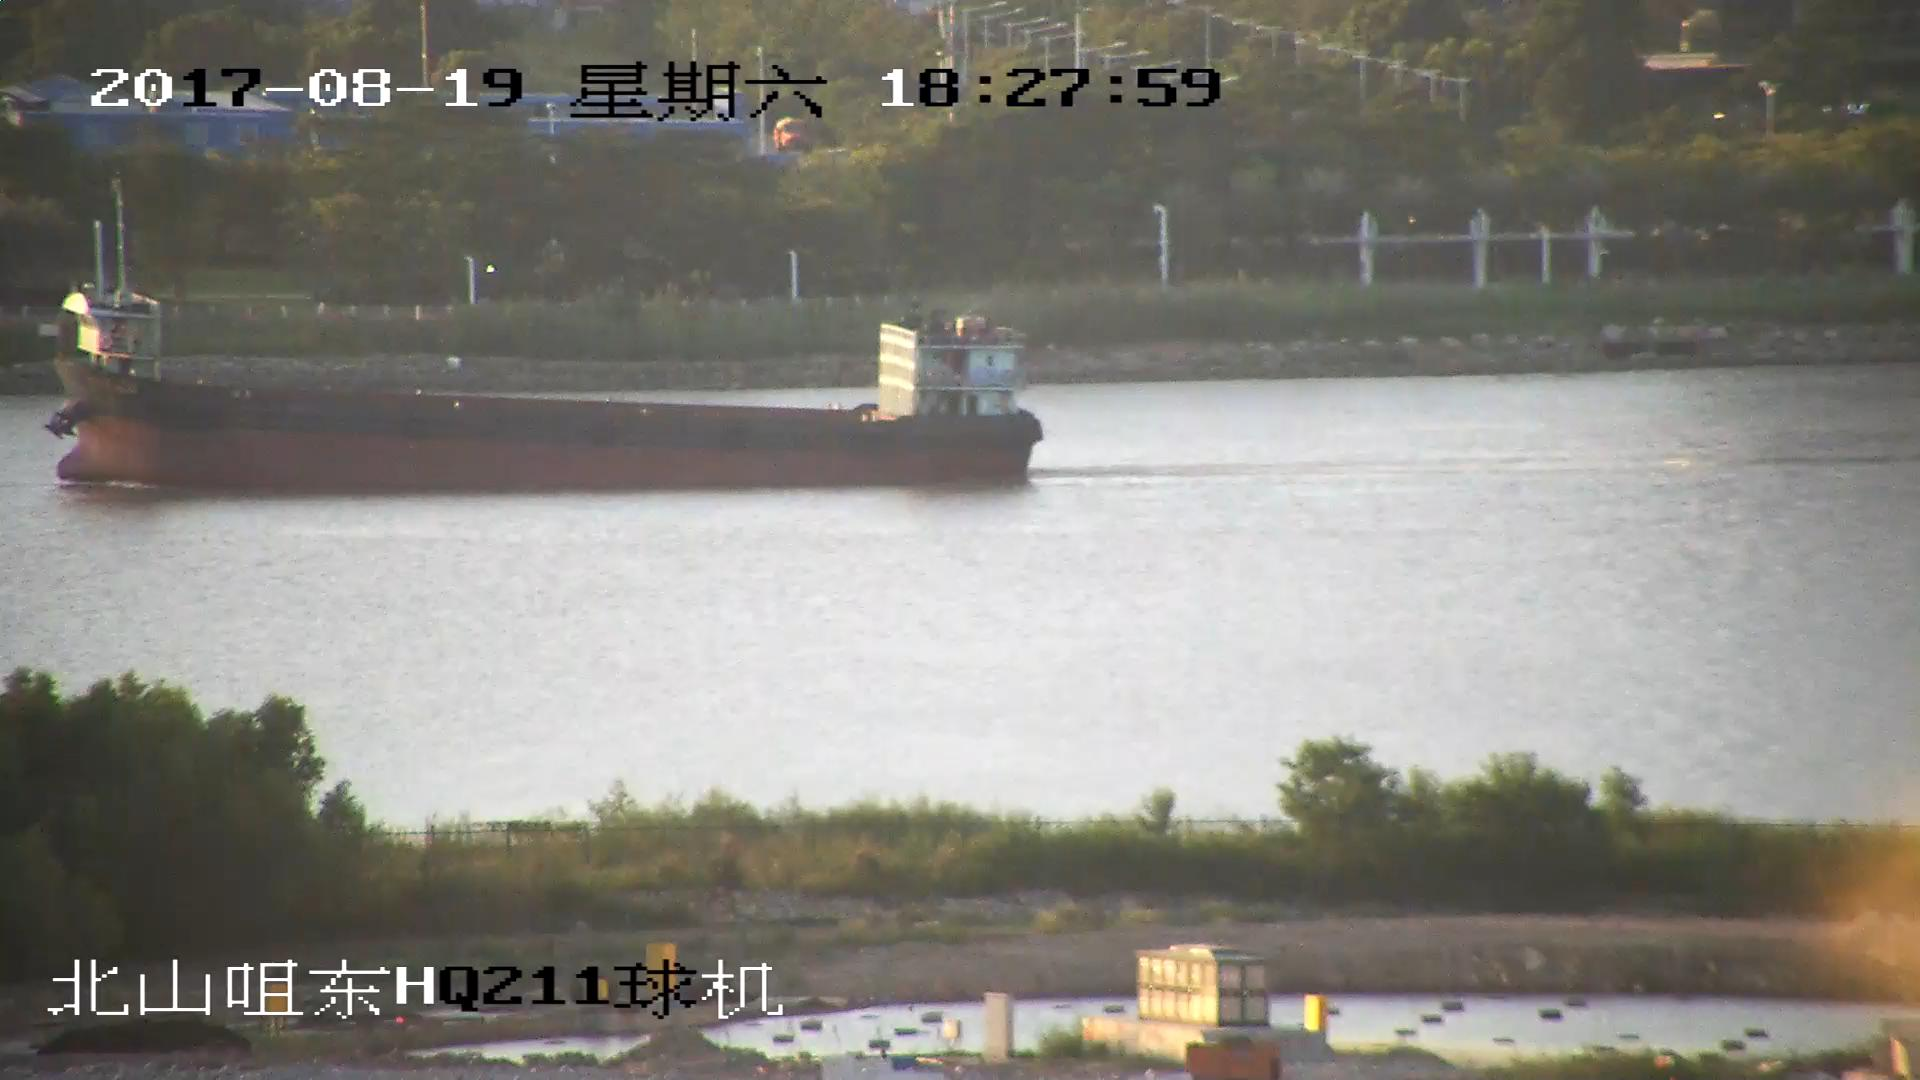general cargo ship: (62, 279, 1038, 498)
